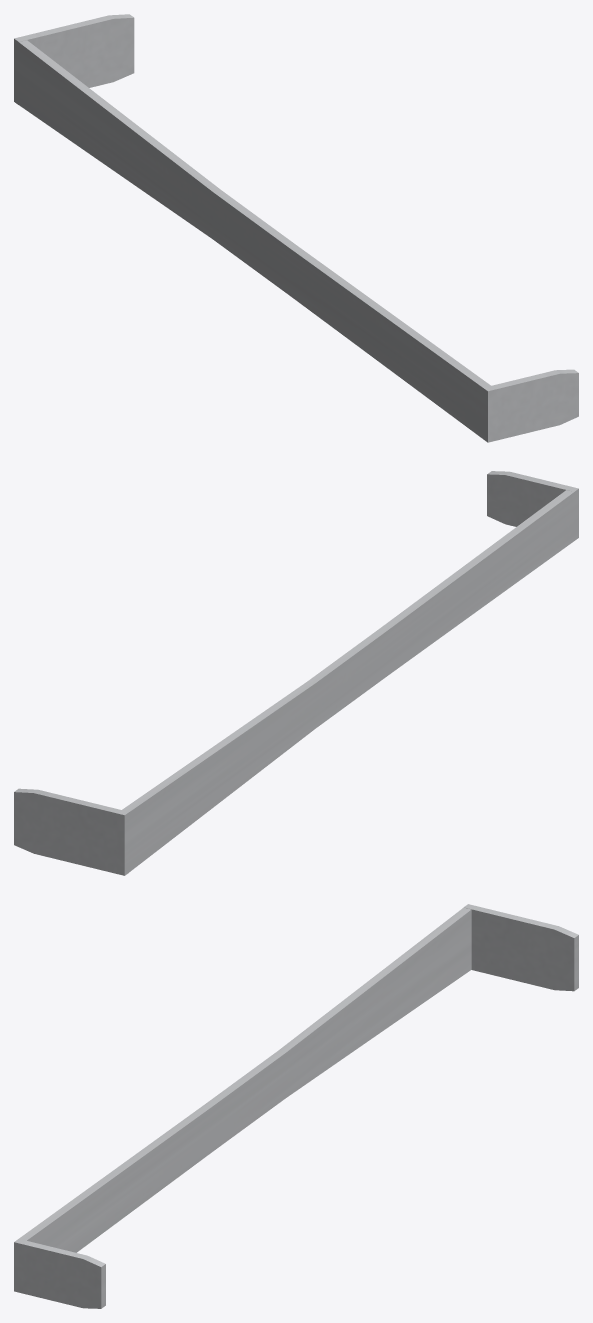
Rendered from army_navy.glb.
3 renders of one model, top to bottom at view 1: azimuth 30°, elevation 25°; view 2: azimuth 150°, elevation 25°; view 3: azimuth 330°, elevation 25°, orthographic. The views are drawn at different scales.
Parts seen in each view (by area): view 1: s8_army_navy; view 2: s8_army_navy; view 3: s8_army_navy.
Part boxes in pixels (left/top/right/bottom): s8_army_navy: left=14, top=14, right=578, bottom=442; s8_army_navy: left=14, top=471, right=578, bottom=875; s8_army_navy: left=14, top=904, right=578, bottom=1308.
Size of the model in its own units: 0.0306 by 0.016 by 0.2172.
Materials: 1 (1 with a texture image).
